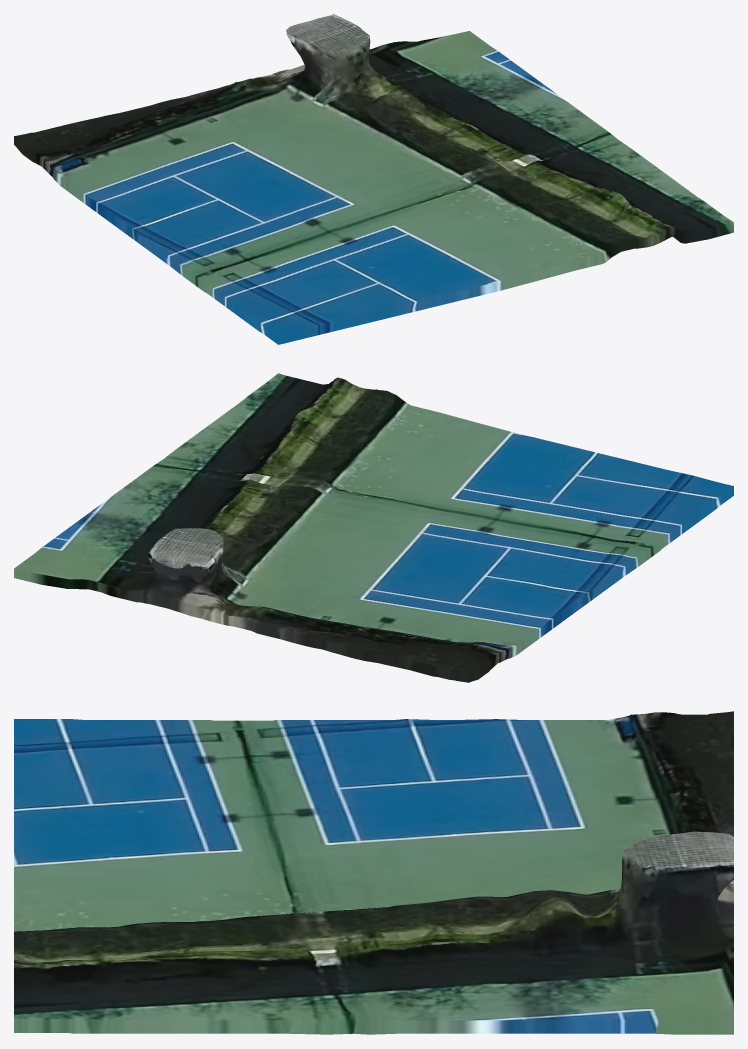
File: z20-167781-405215-h0-yup-uvflip-v3-world.glb
3 views of the same model, one above another, from view 1: azimuth 30°, elevation 25°; view 2: azimuth 150°, elevation 25°; view 3: azimuth 270°, elevation 25° (orthographic). The views are drawn at different scales.
Size of the model in its own units: 30.16 by 3.88 by 30.32.
Materials: 1 (1 with a texture image).
